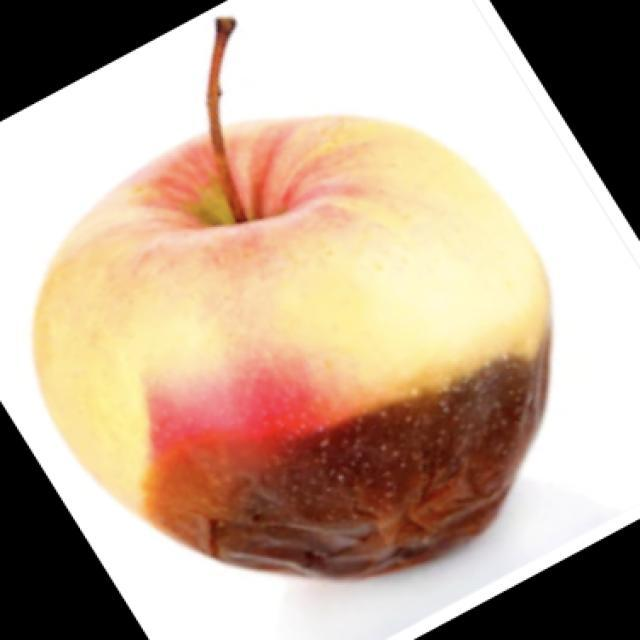Rotten: (67, 120, 535, 568)
